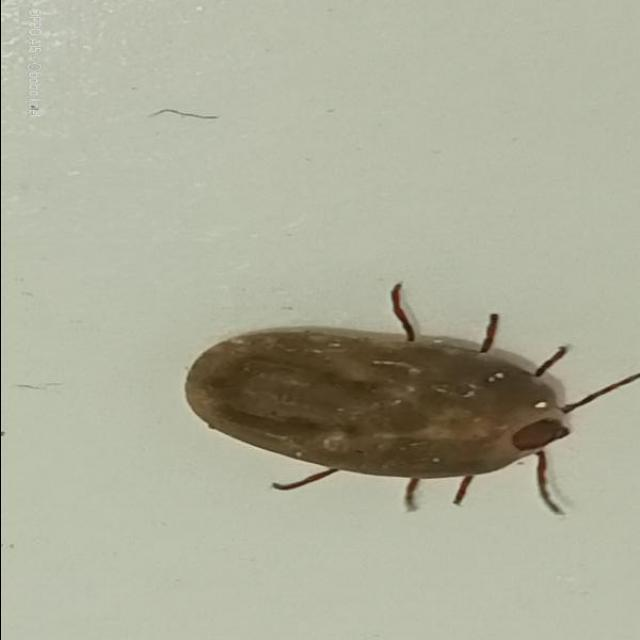Rhipicephalus Sanguineus-F-Fed: (180, 282, 640, 517)
